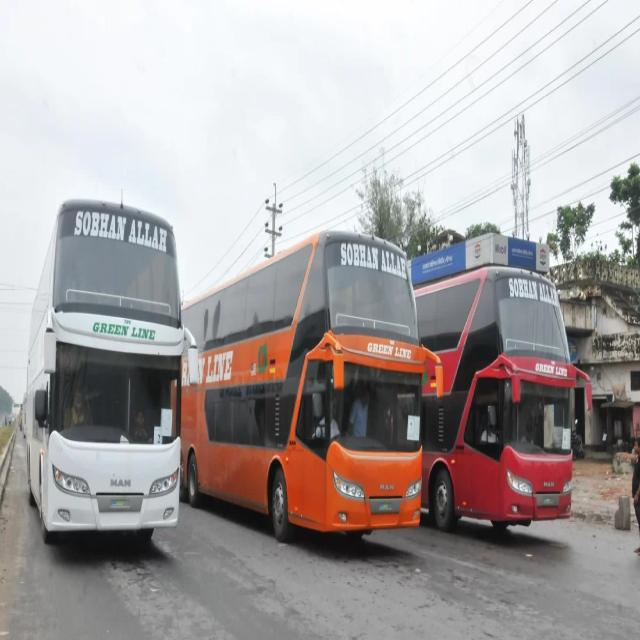Double decker: (163, 221, 431, 573), (277, 254, 590, 550), (17, 179, 200, 575)
